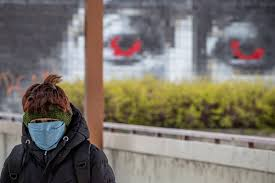mask: (19, 79, 74, 149)
